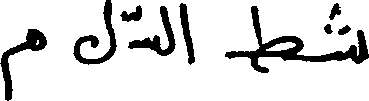ا: (177, 2, 200, 65)
س: (129, 35, 158, 49)
ش: (315, 1, 367, 64)
ط: (224, 1, 303, 73)
ل: (73, 0, 117, 65), (160, 4, 174, 56)
م: (0, 27, 46, 99)
